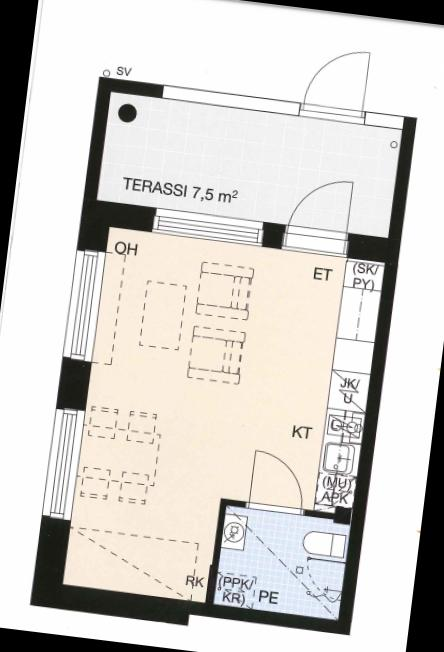door: (276, 170, 362, 263), (296, 41, 379, 128), (241, 447, 312, 520)
window: (56, 242, 115, 370), (147, 201, 277, 255), (37, 400, 92, 527)
